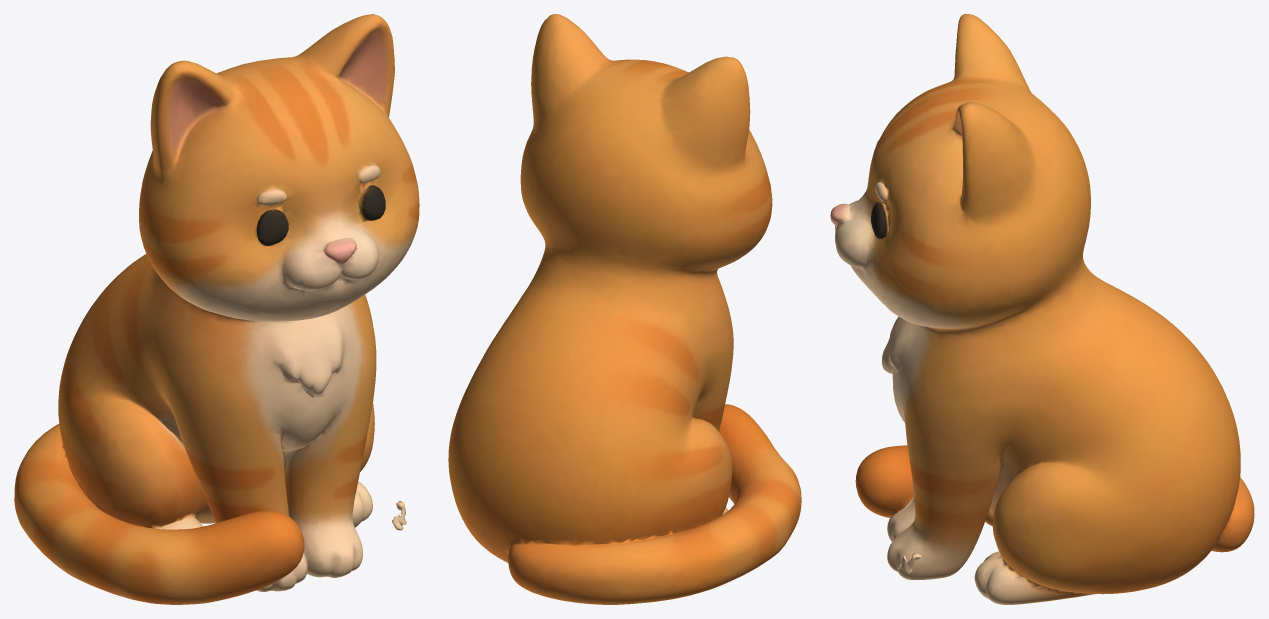
File: 38-gato.glb
The picture shows the model from 3 angles, left to right: view 1: azimuth 30°, elevation 25°; view 2: azimuth 150°, elevation 25°; view 3: azimuth 270°, elevation 25°; orthographic projection. The views are drawn at different scales.
Visible parts, largest first — view 1: tripo_node_46e4b5ca-f4d6-4e5d-ba9b-928b2a418856; view 2: tripo_node_46e4b5ca-f4d6-4e5d-ba9b-928b2a418856; view 3: tripo_node_46e4b5ca-f4d6-4e5d-ba9b-928b2a418856.
Boxes of the visible parts, x1=… form: tripo_node_46e4b5ca-f4d6-4e5d-ba9b-928b2a418856: x1=14, y1=14, x2=419, y2=604; tripo_node_46e4b5ca-f4d6-4e5d-ba9b-928b2a418856: x1=448, y1=14, x2=801, y2=604; tripo_node_46e4b5ca-f4d6-4e5d-ba9b-928b2a418856: x1=830, y1=14, x2=1254, y2=604.
Bounding box in the file's own units: 0.6499 × 1 × 0.7722.
Materials: 1 (1 with a texture image).
